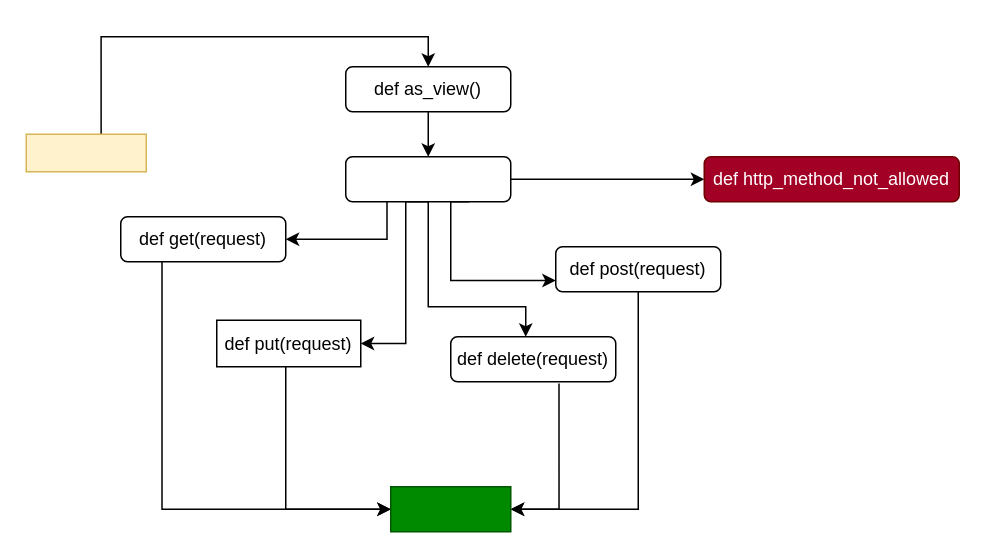
Image size: 986x558. Some labels were removed from this diagram. The shapes that lost their labels are listed below. From the top down, each one's box as (x1, y1, x2, y2) in pixels, then its label:
(25, 133, 146, 172): Request
(344, 155, 511, 202): def dispatch()
(389, 485, 511, 532): Response
